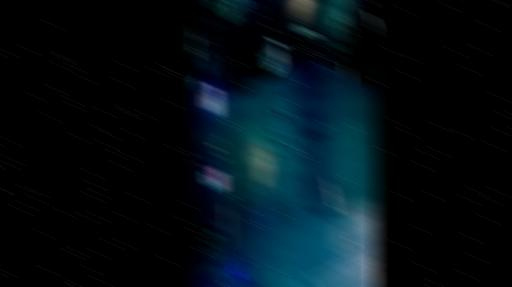Fish: (263, 39, 284, 72), (326, 179, 339, 210), (331, 226, 344, 253), (294, 26, 319, 36), (367, 259, 376, 286), (342, 196, 353, 217), (367, 12, 376, 31), (191, 79, 202, 94), (306, 269, 315, 284), (268, 130, 279, 140), (370, 65, 376, 83), (309, 135, 315, 152), (274, 139, 285, 148), (295, 139, 303, 151), (344, 66, 350, 82), (279, 246, 288, 255), (278, 113, 287, 121), (285, 244, 294, 252), (254, 3, 263, 10), (310, 210, 329, 213), (286, 135, 294, 142), (273, 139, 279, 148), (295, 152, 301, 161), (273, 251, 280, 258), (272, 149, 278, 157), (281, 110, 290, 114), (298, 278, 302, 286), (277, 127, 283, 132), (289, 244, 295, 249), (318, 283, 322, 286)
